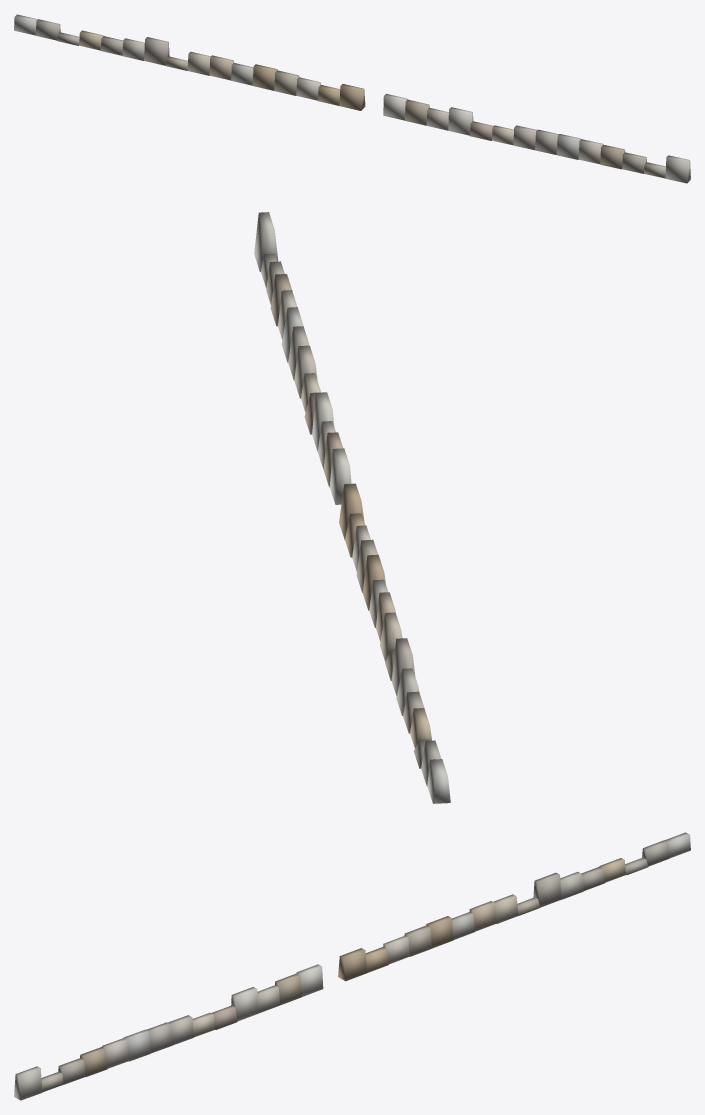
The model's file is farm_6_21_collision.glb.
3 renders of one model, top to bottom at view 1: azimuth 30°, elevation 25°; view 2: azimuth 150°, elevation 25°; view 3: azimuth 270°, elevation 25°, orthographic. The views are drawn at different scales.
Parts seen in each view (by area): view 1: geometry_0; view 2: geometry_0; view 3: geometry_0.
Part boxes in pixels (x1,y1,x2,y2): geometry_0: (14, 14, 690, 183); geometry_0: (254, 212, 450, 803); geometry_0: (14, 832, 690, 1100).
Size of the model in its own units: 29.89 by 3.41 by 39.39.
